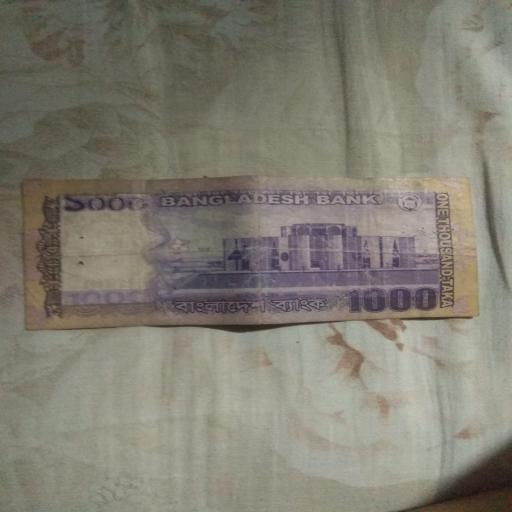1000taka: (22, 182, 476, 322)
